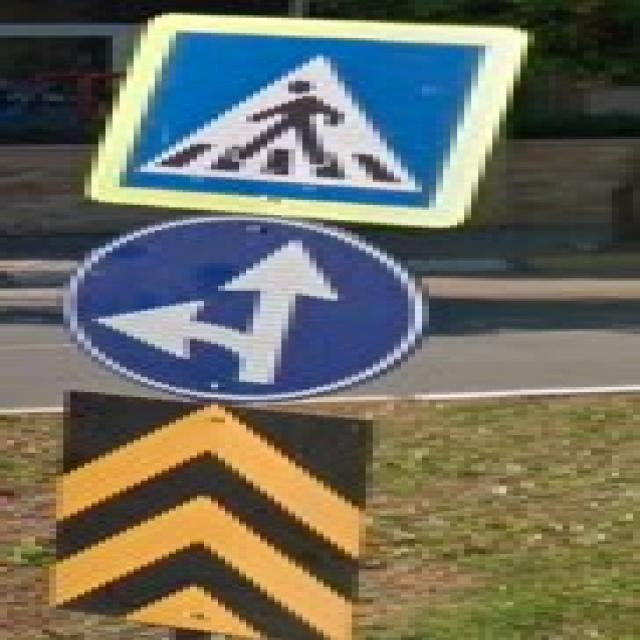Straight or Left: (68, 217, 426, 402)
